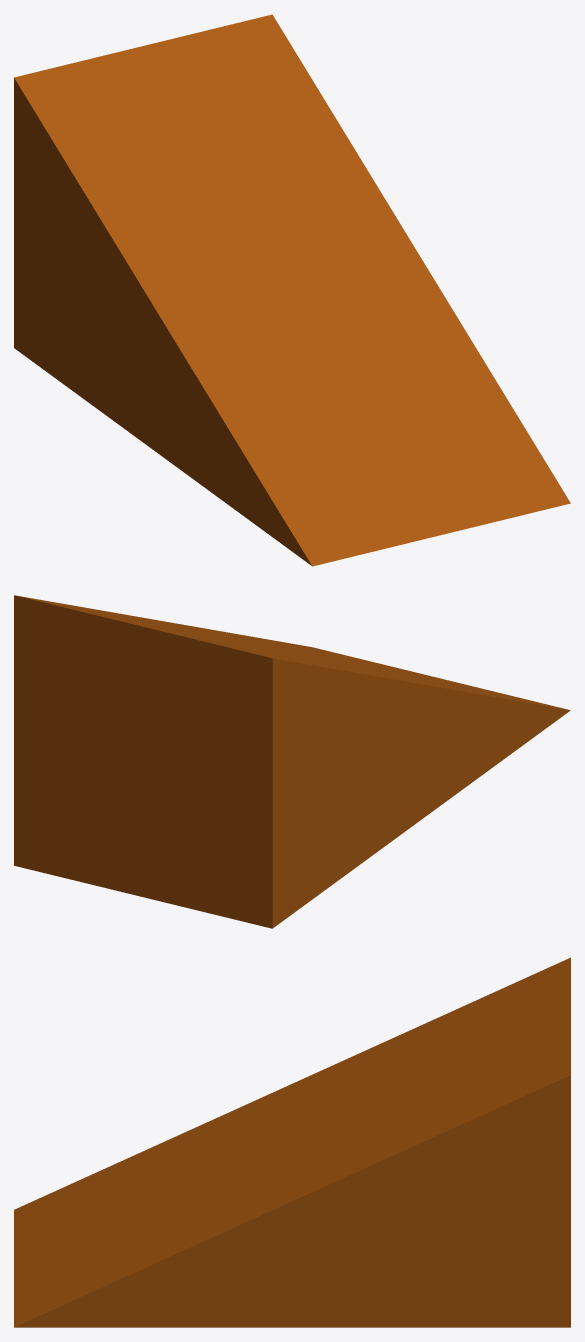
Rendered from trappa.fbx.
3 views of the same model, one above another, from view 1: azimuth 30°, elevation 25°; view 2: azimuth 150°, elevation 25°; view 3: azimuth 270°, elevation 25° (orthographic). The views are drawn at different scales.
Parts seen in each view (by area): view 1: Cube; view 2: Cube; view 3: Cube.
Part boxes in pixels (x1,y1,x2,y2): Cube: [14, 14, 570, 566]; Cube: [14, 595, 570, 928]; Cube: [14, 957, 570, 1327].
Bounding box in the file's own units: 200 × 200 × 400.
